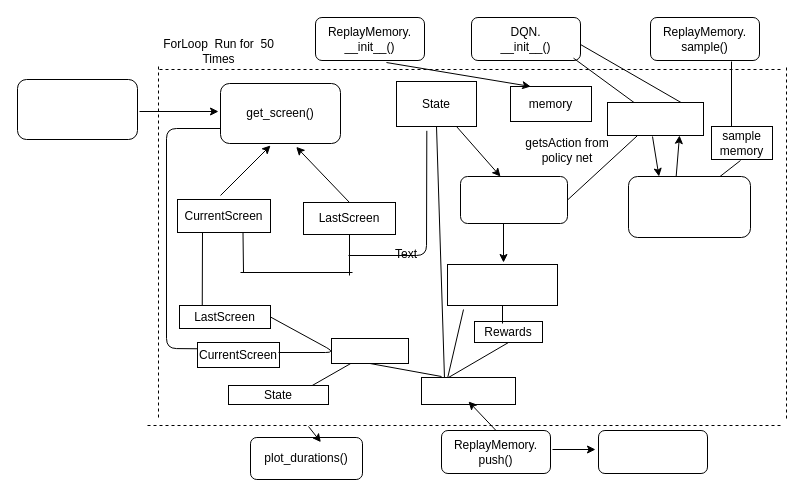
The diagram is 805 pixels wide and 497 high, and some of its shapes have lost their labels. Each missing label, with the centre of its shape:
"Action" belongs at (x=502, y=285).
"get_action(state)" belongs at (x=514, y=200).
"get_cart_location()" belongs at (x=77, y=109).
"NewState" belongs at (x=369, y=351).
"optimize_model()" belongs at (x=689, y=207).
"PolicyNet/ TargetNet" belongs at (x=655, y=119).
"ReplayMemory. __len__()" belongs at (x=653, y=452).
"StoreTransition" belongs at (x=468, y=390).
